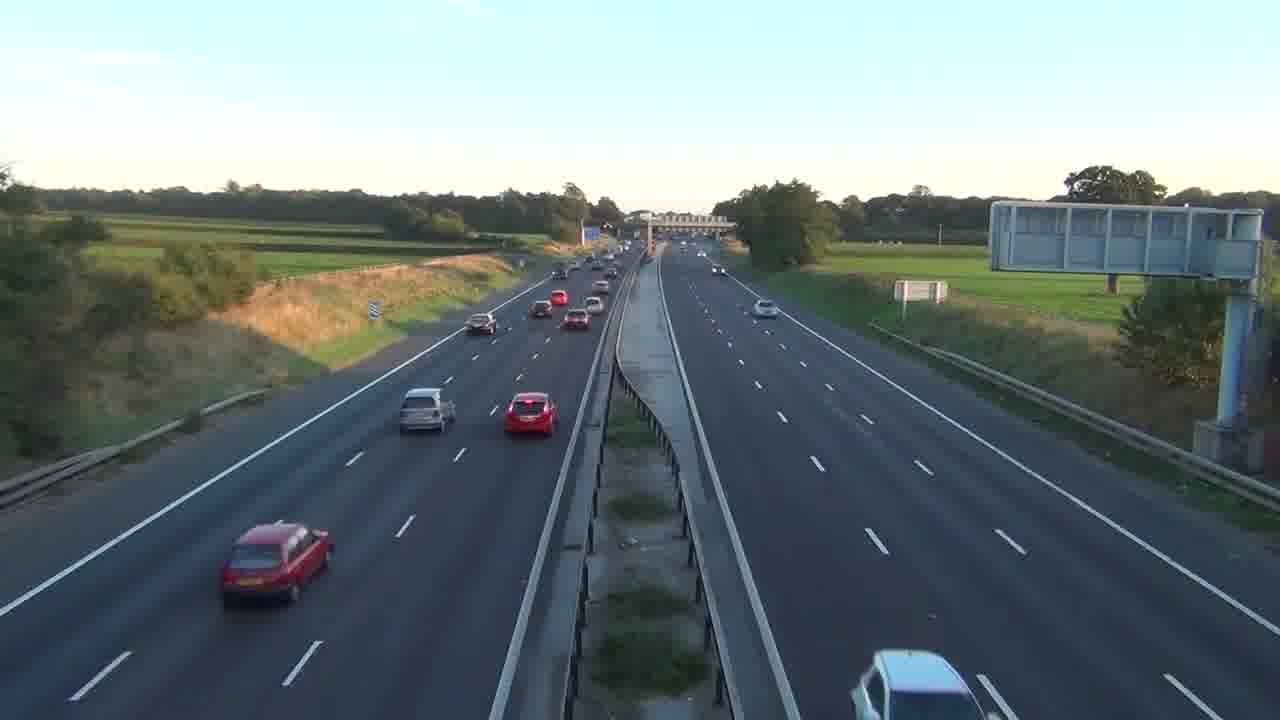car: (219, 520, 336, 605), (849, 648, 990, 718), (398, 386, 455, 434), (504, 391, 559, 437), (561, 308, 591, 331)
